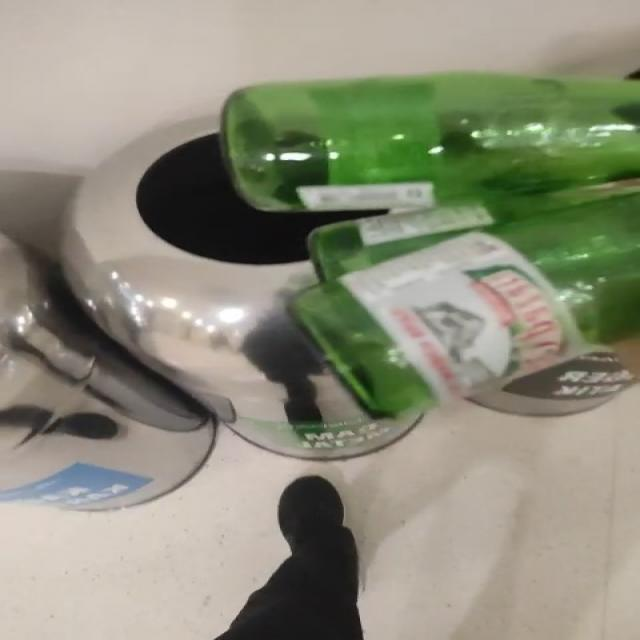Glass: (221, 72, 637, 415)
